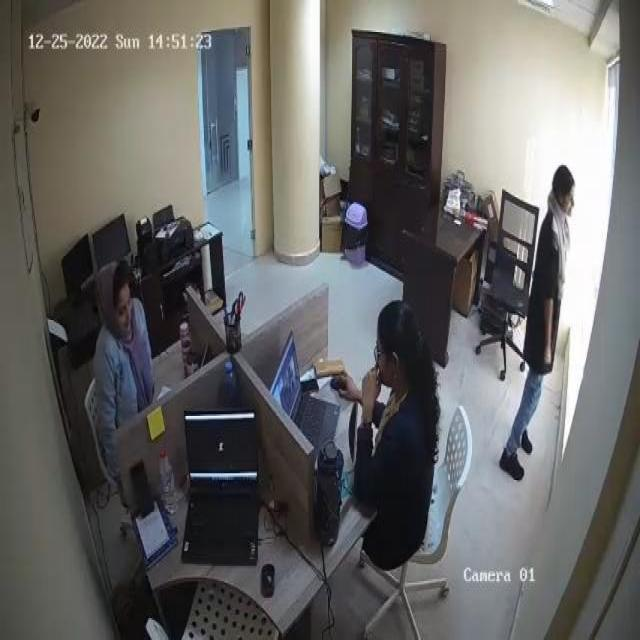bare_hand: (352, 350, 386, 426), (332, 357, 365, 411), (535, 337, 560, 372)
